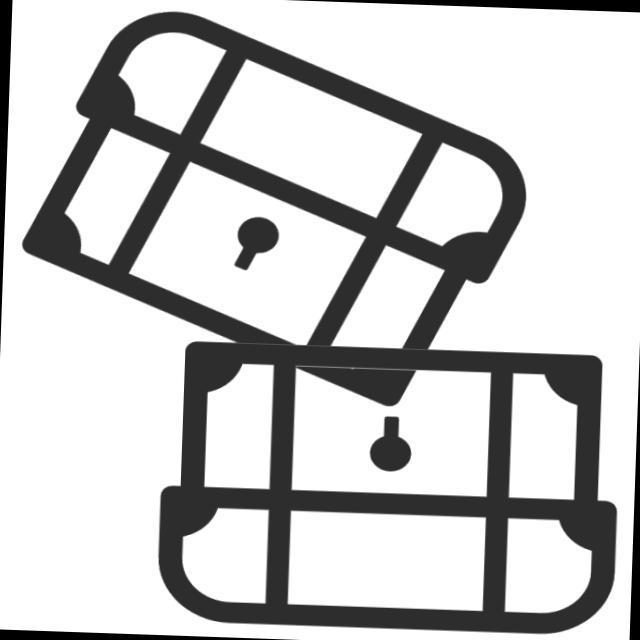treasure_box: (9, 1, 536, 417), (153, 318, 627, 640)
